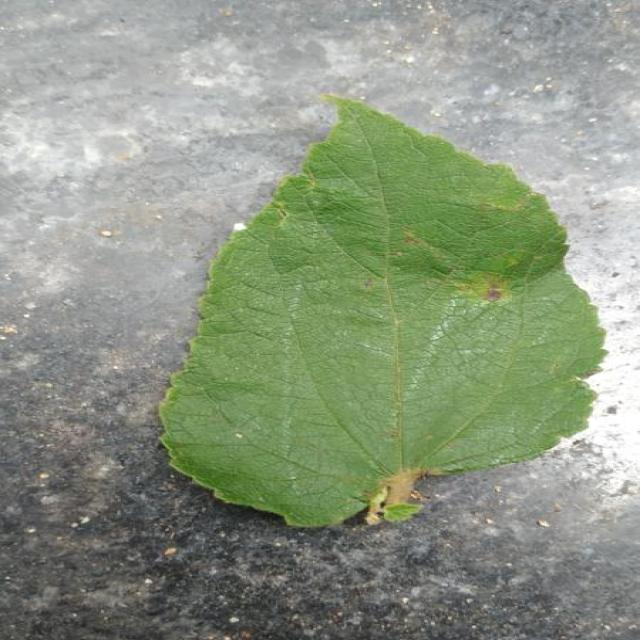gasagase: (160, 98, 603, 526)
